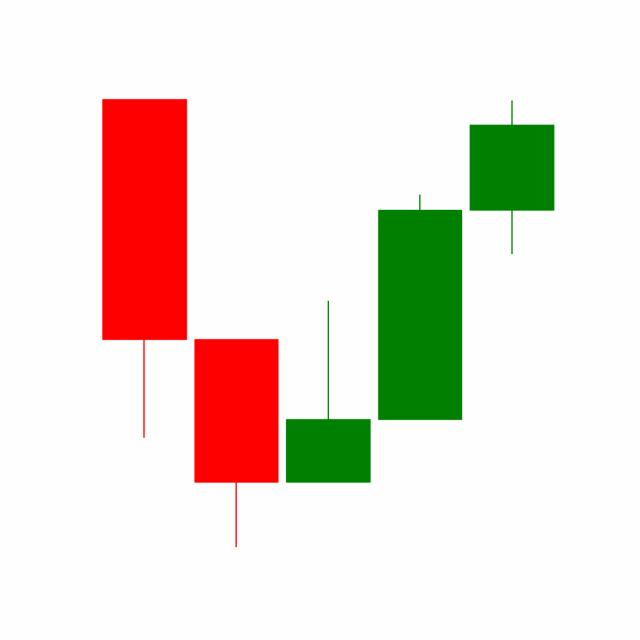Marubozu: (373, 190, 467, 422)
